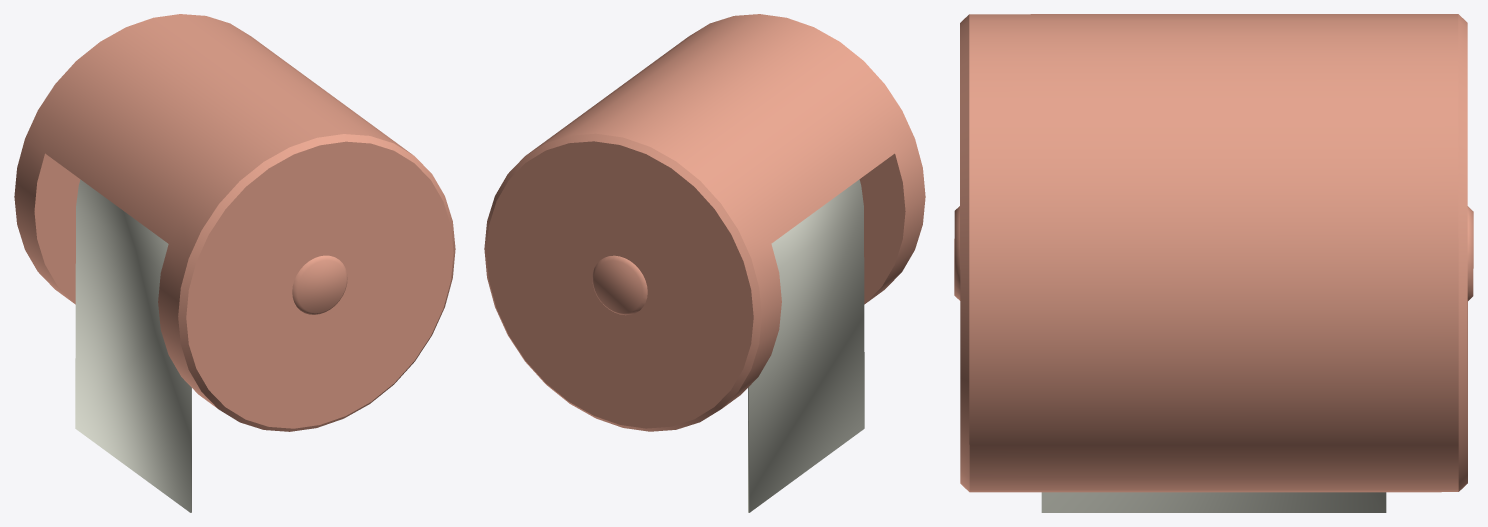
The model's file is tissue & holder.glb.
The picture shows the model from 3 angles, left to right: view 1: azimuth 30°, elevation 25°; view 2: azimuth 150°, elevation 25°; view 3: azimuth 270°, elevation 25°; orthographic projection. The views are drawn at different scales.
Parts seen in each view (by area): view 1: tissue and holder; view 2: tissue and holder; view 3: tissue and holder.
Boxes of the visible parts, x1,y1,x2,y2 form: tissue and holder: (14, 14, 455, 512); tissue and holder: (484, 14, 925, 512); tissue and holder: (954, 14, 1473, 512).
Size of the model in its own units: 0.1756 by 0.2226 by 0.1904.
